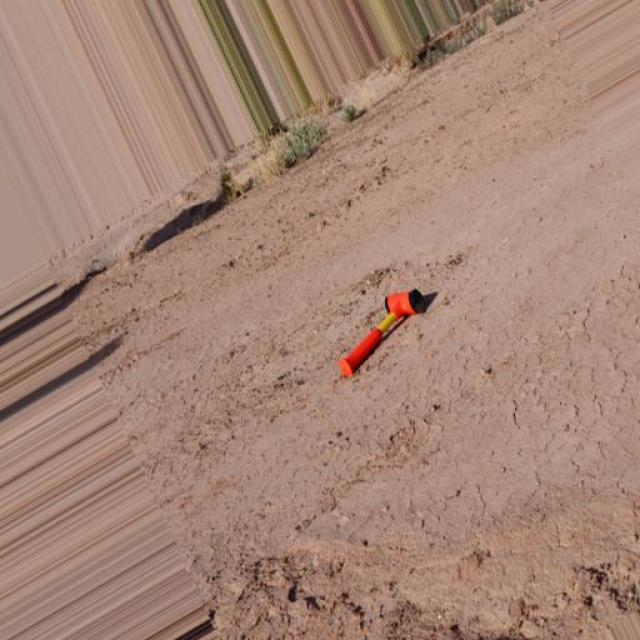mallet: (339, 286, 440, 379)
